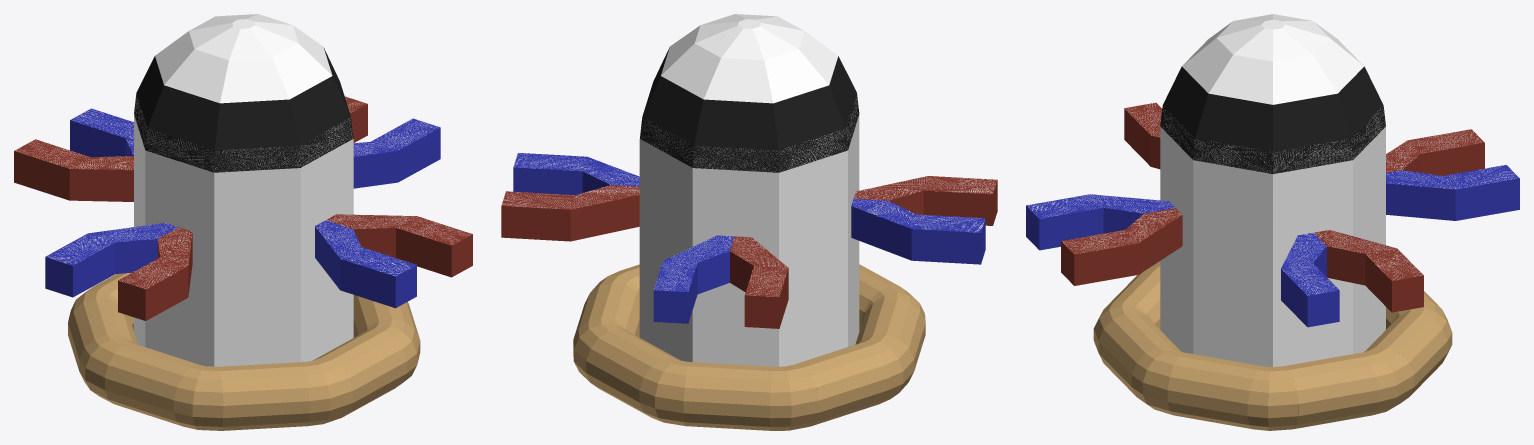
File: magnet.dae
The picture shows the model from 3 angles, left to right: view 1: azimuth 30°, elevation 25°; view 2: azimuth 150°, elevation 25°; view 3: azimuth 270°, elevation 25°; orthographic projection.
Parts seen in each view (by area): view 1: SketchUp (×3), Component_2 (×8), Component_1 (×6); view 2: SketchUp (×3), Component_2 (×6), Component_1 (×7); view 3: SketchUp (×3), Component_2 (×7), Component_1 (×5).
Part boxes in pixels (x1,y1,x2,y2): SketchUp (×3): [134, 14, 353, 366]; Component_2 (×8): [14, 96, 472, 320]; Component_1 (×6): [68, 272, 420, 430]; SketchUp (×3): [639, 14, 859, 366]; Component_2 (×6): [501, 153, 997, 328]; Component_1 (×7): [573, 264, 925, 430]; SketchUp (×3): [1160, 14, 1385, 367]; Component_2 (×7): [1026, 102, 1519, 327]; Component_1 (×5): [1093, 267, 1452, 430].
Bounding box in the file's own units: 112 × 112 × 86.47.
